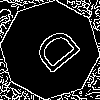D: (25, 25, 83, 82)
